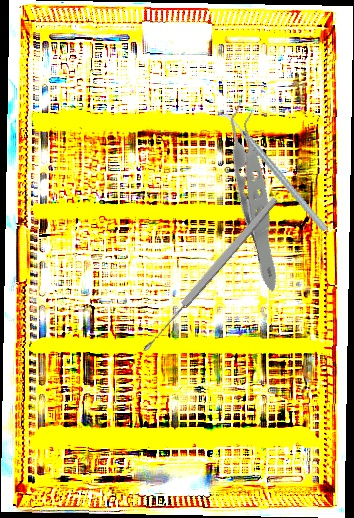Chopper: (216, 91, 328, 252)
Surgical Spoon: (139, 194, 281, 355)
Tissue Forceps: (178, 89, 338, 293)
